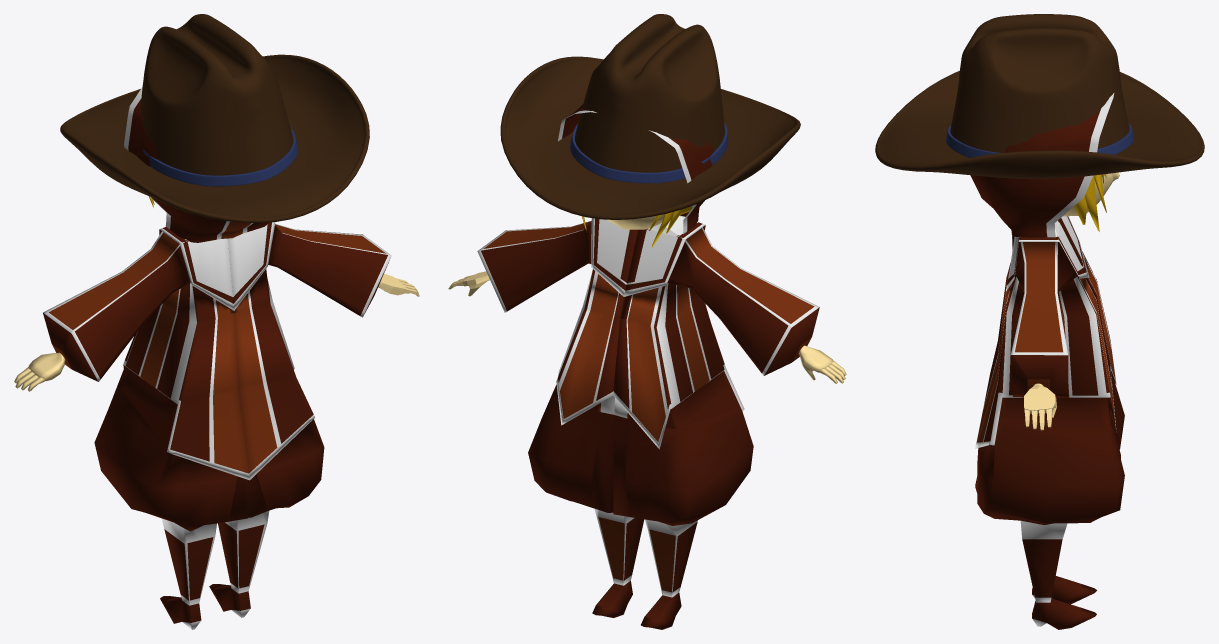
File: female.fbx
3 renders of one model, left to right at view 1: azimuth 30°, elevation 25°; view 2: azimuth 150°, elevation 25°; view 3: azimuth 270°, elevation 25°, orthographic.
Visible parts, largest first — view 1: Cube, topi koboy, Cube.005, Cube.002; view 2: Cube, topi koboy, Cube.005, Cube.002, Cube.004; view 3: Cube, topi koboy, Cube.005, Cube.004, Cube.003.
Part boxes in pixels (x1,y1,x2,y2): Cube: (43,222,391,629); topi koboy: (60,14,369,222); Cube.005: (124,87,291,242); Cube.002: (14,352,65,391); Cube: (477,215,819,629); topi koboy: (500,14,800,219); Cube.005: (558,104,713,233); Cube.002: (799,345,846,383); Cube.004: (582,206,692,247); Cube: (975,216,1124,629); topi koboy: (875,14,1204,178); Cube.005: (970,93,1114,237); Cube.004: (1063,172,1119,231); Cube.003: (1024,383,1056,430).
Size of the model in its own units: 445 by 631 by 320.
